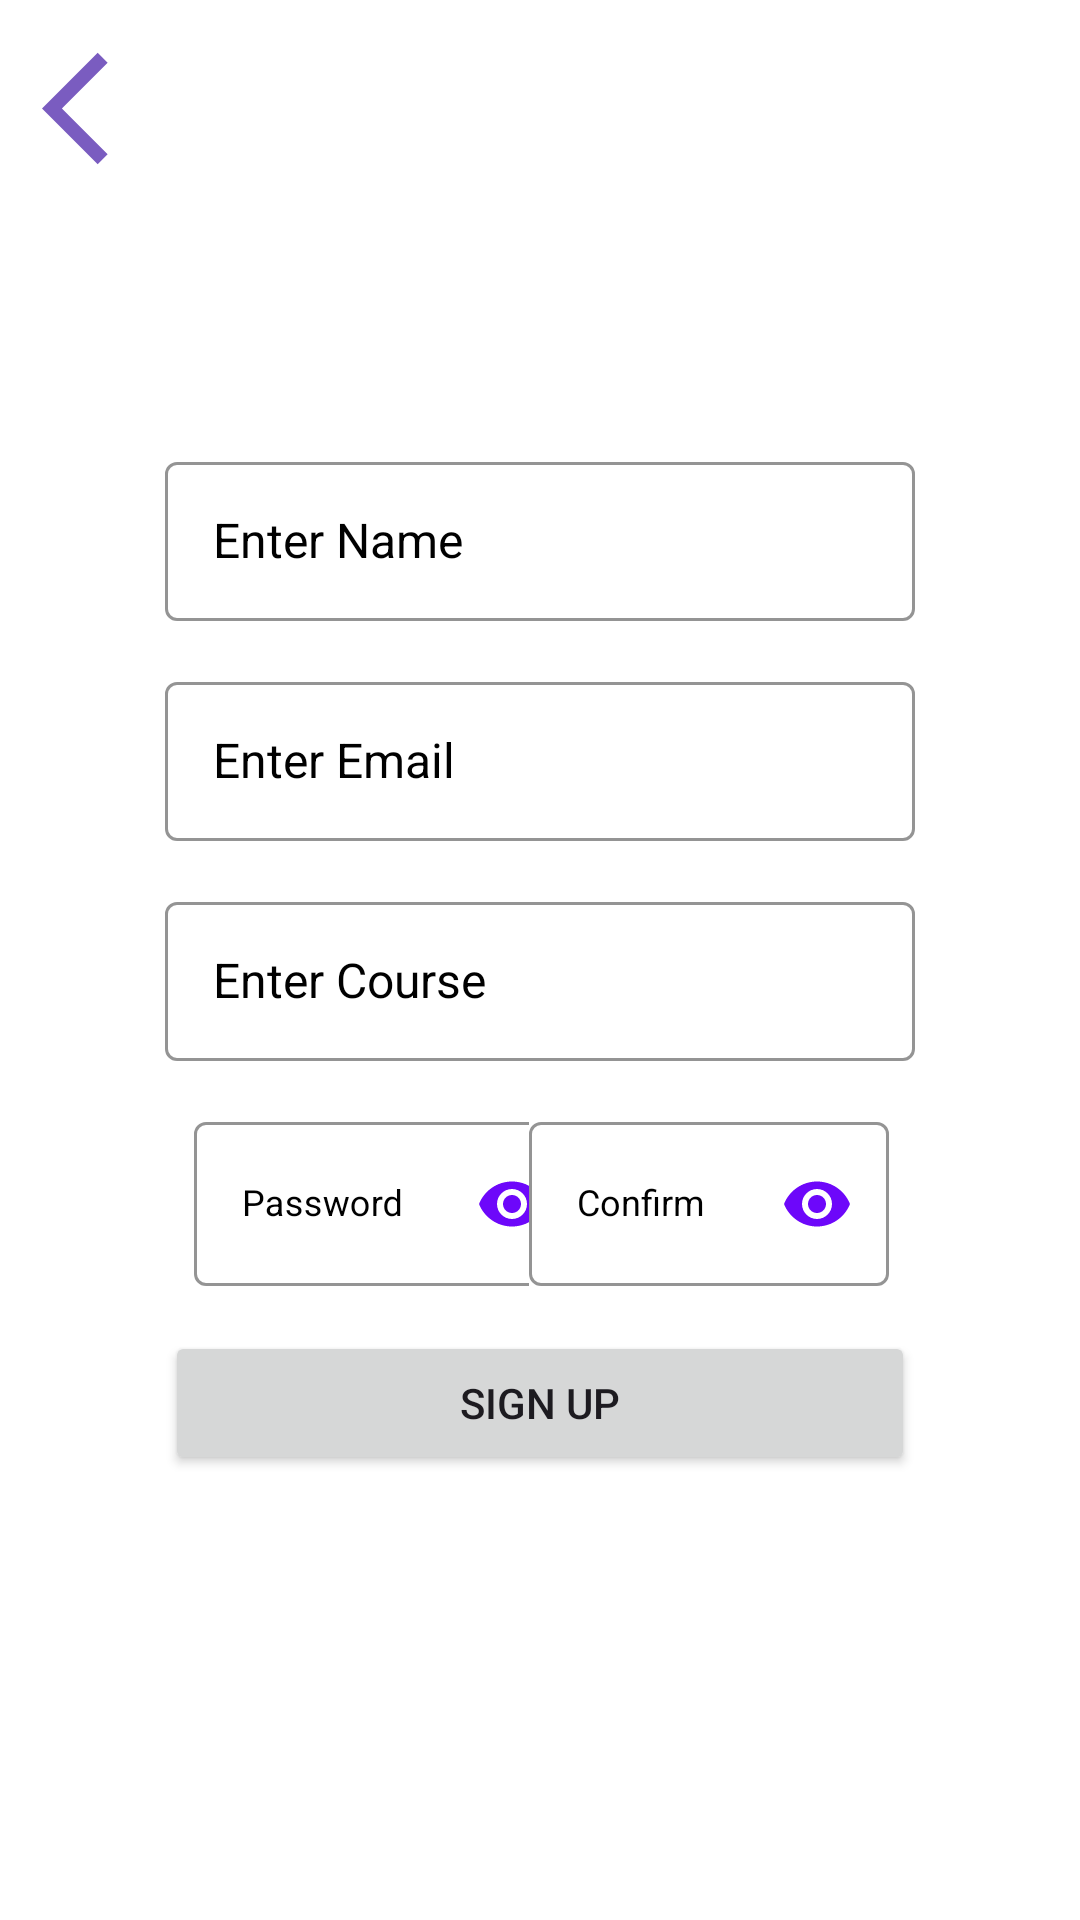

Icon click points for this 1080 × 1920 phone screenshot, format [x,y]:
arrow back: [75,108]
